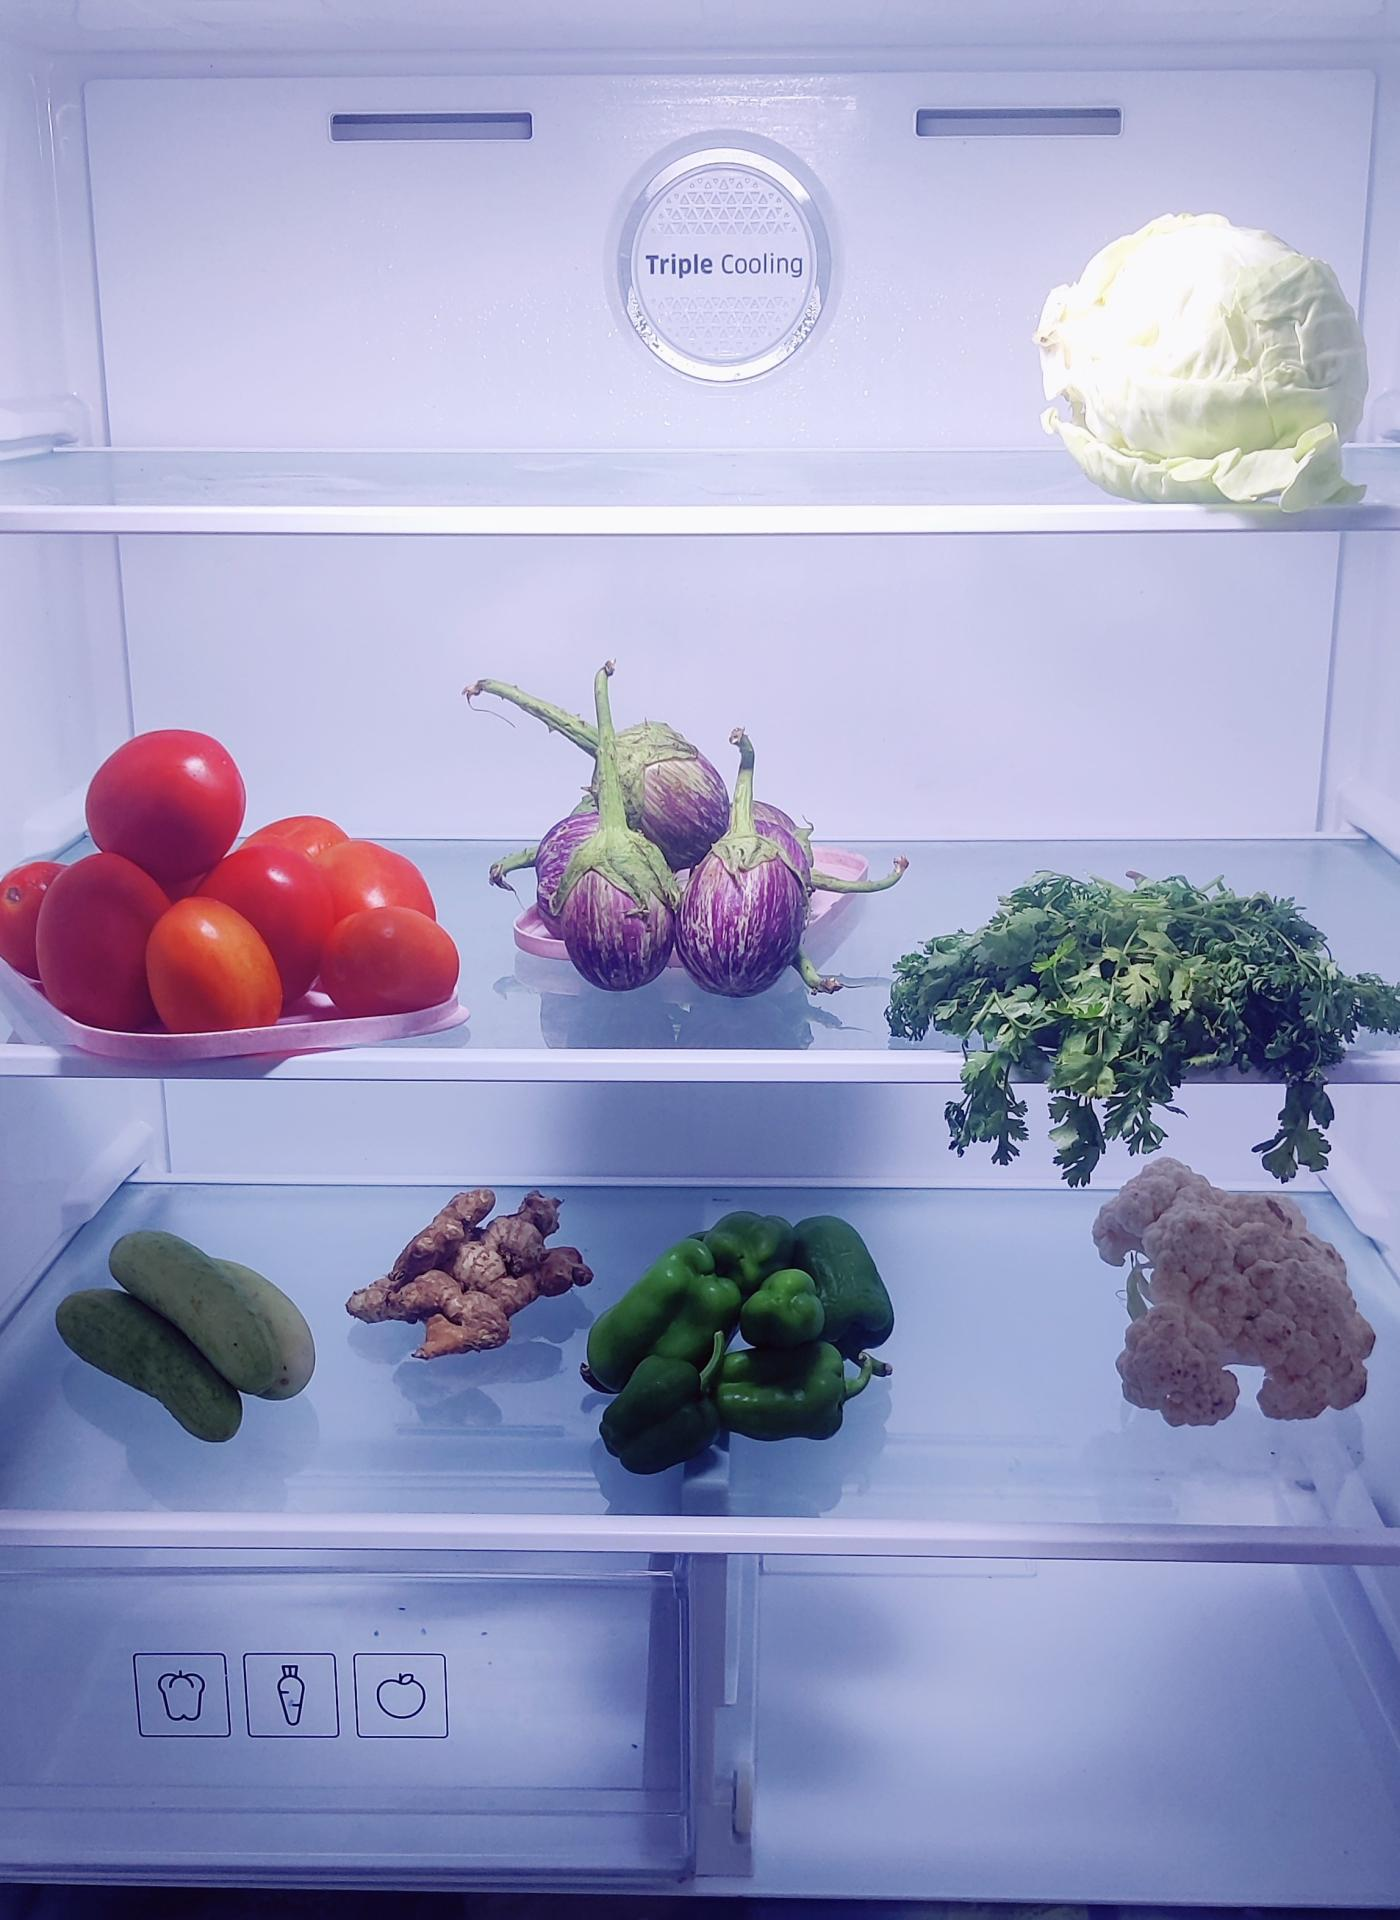cabbage: (1035, 209, 1355, 489)
capsicum: (602, 1213, 892, 1471)
cauliflower: (1096, 1160, 1367, 1425)
coriander: (893, 874, 1400, 1085)
cucumber: (61, 1231, 319, 1440)
ginger: (341, 1187, 587, 1365)
tomato: (30, 729, 453, 1026)
